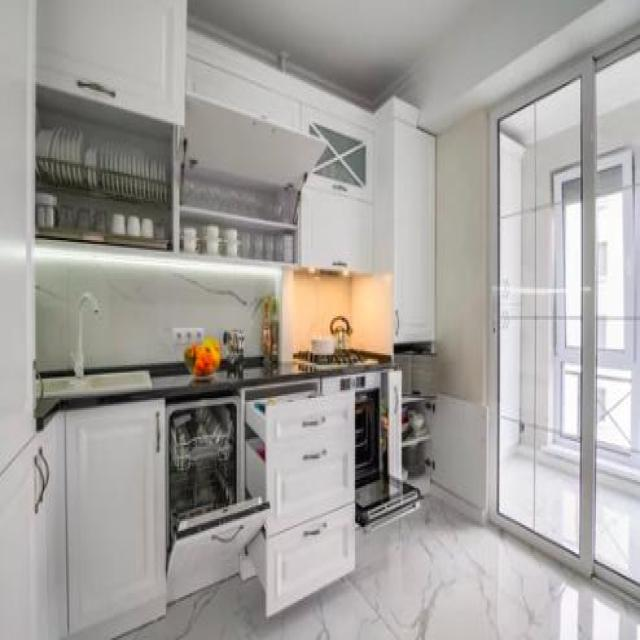dishwasher: (166, 394, 273, 591)
